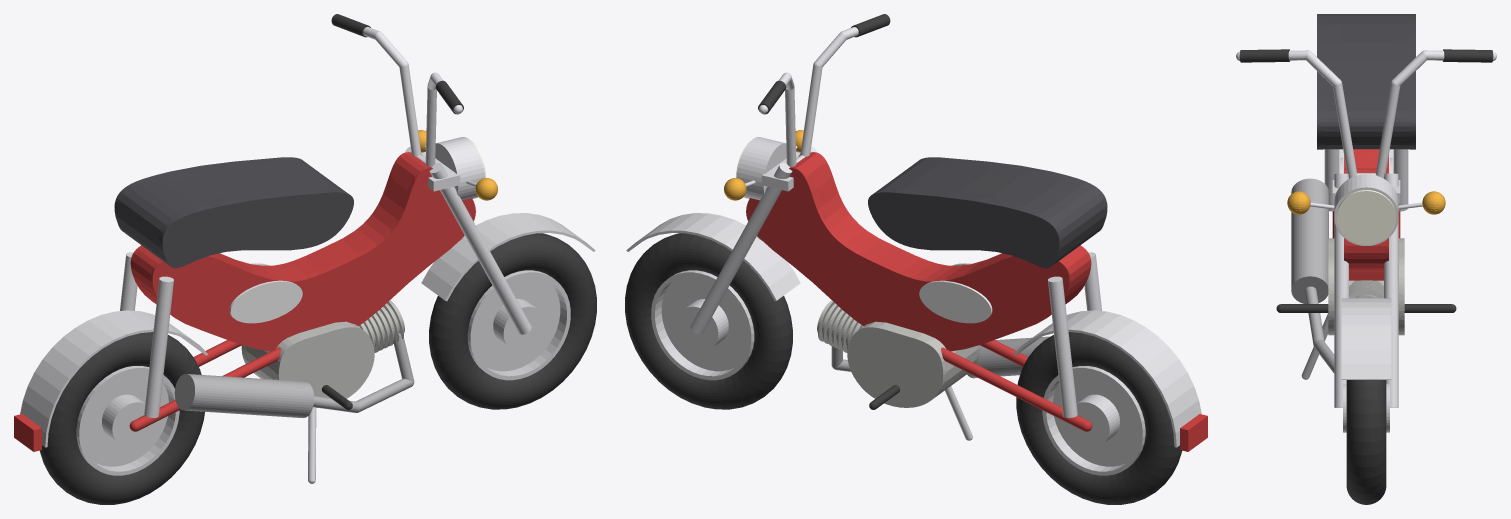
Rendered from honda-dax.glb.
3 views of the same model, side by side, from view 1: azimuth 30°, elevation 25°; view 2: azimuth 150°, elevation 25°; view 3: azimuth 270°, elevation 25° (orthographic). The views are drawn at different scales.
Visible parts, largest first — view 1: frame, seat, front_tyre, rear_tyre, front_rim, rear_rim, crankcase, rear_fender, muffler, front_fender, fork, rear_shocks (+8 smaller); view 2: frame, seat, front_tyre, rear_tyre, front_rim, rear_rim, crankcase, rear_fender, front_fender, fork, rear_shocks, handlebar (+7 smaller); view 3: seat, front_tyre, front_fender, fork, muffler, handlebar, headlamp_lens, frame, crankcase, headlamp_shell, rear_shocks, grips (+6 smaller).
Part boxes in pixels (bbox=[...]): frame: bbox=[130, 152, 475, 351]; seat: bbox=[114, 157, 353, 268]; front_tyre: bbox=[429, 233, 596, 409]; rear_tyre: bbox=[40, 332, 204, 504]; front_rim: bbox=[467, 270, 570, 380]; rear_rim: bbox=[76, 366, 179, 475]; crankcase: bbox=[241, 321, 374, 407]; rear_fender: bbox=[20, 310, 207, 447]; muffler: bbox=[174, 374, 314, 417]; front_fender: bbox=[421, 213, 595, 301]; fork: bbox=[405, 146, 531, 334]; rear_shocks: bbox=[120, 252, 173, 417]; frame: bbox=[746, 152, 1091, 351]; seat: bbox=[868, 157, 1107, 268]; front_tyre: bbox=[625, 233, 792, 409]; rear_tyre: bbox=[1016, 332, 1181, 504]; front_rim: bbox=[651, 270, 754, 380]; rear_rim: bbox=[1042, 366, 1145, 475]; crankcase: bbox=[847, 321, 980, 407]; rear_fender: bbox=[1014, 310, 1201, 447]; front_fender: bbox=[626, 213, 800, 301]; fork: bbox=[690, 146, 816, 334]; rear_shocks: bbox=[1048, 252, 1101, 417]; handlebar: bbox=[759, 17, 890, 166]; seat: bbox=[1317, 14, 1415, 149]; front_tyre: bbox=[1346, 380, 1386, 504]; front_fender: bbox=[1341, 298, 1391, 379]; fork: bbox=[1332, 173, 1400, 407]; muffler: bbox=[1291, 178, 1328, 303]; handlebar: bbox=[1236, 50, 1496, 178]; headlamp_lens: bbox=[1337, 190, 1395, 244]; frame: bbox=[1344, 149, 1388, 280]; crankcase: bbox=[1328, 238, 1404, 335]; headlamp_shell: bbox=[1334, 174, 1398, 245]; rear_shocks: bbox=[1324, 149, 1408, 211]; grips: bbox=[1239, 49, 1493, 62].
Size of what is drawn, in the model's own units: 1.51 by 0.96 by 0.5799.
